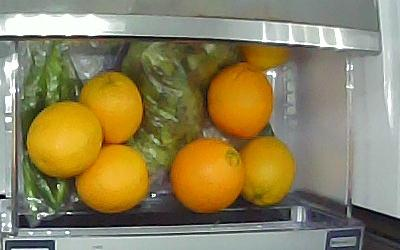orange: (25, 100, 103, 177), (168, 136, 245, 212), (206, 59, 273, 138), (74, 143, 148, 212), (77, 69, 143, 144), (237, 134, 296, 205), (240, 43, 290, 69)
